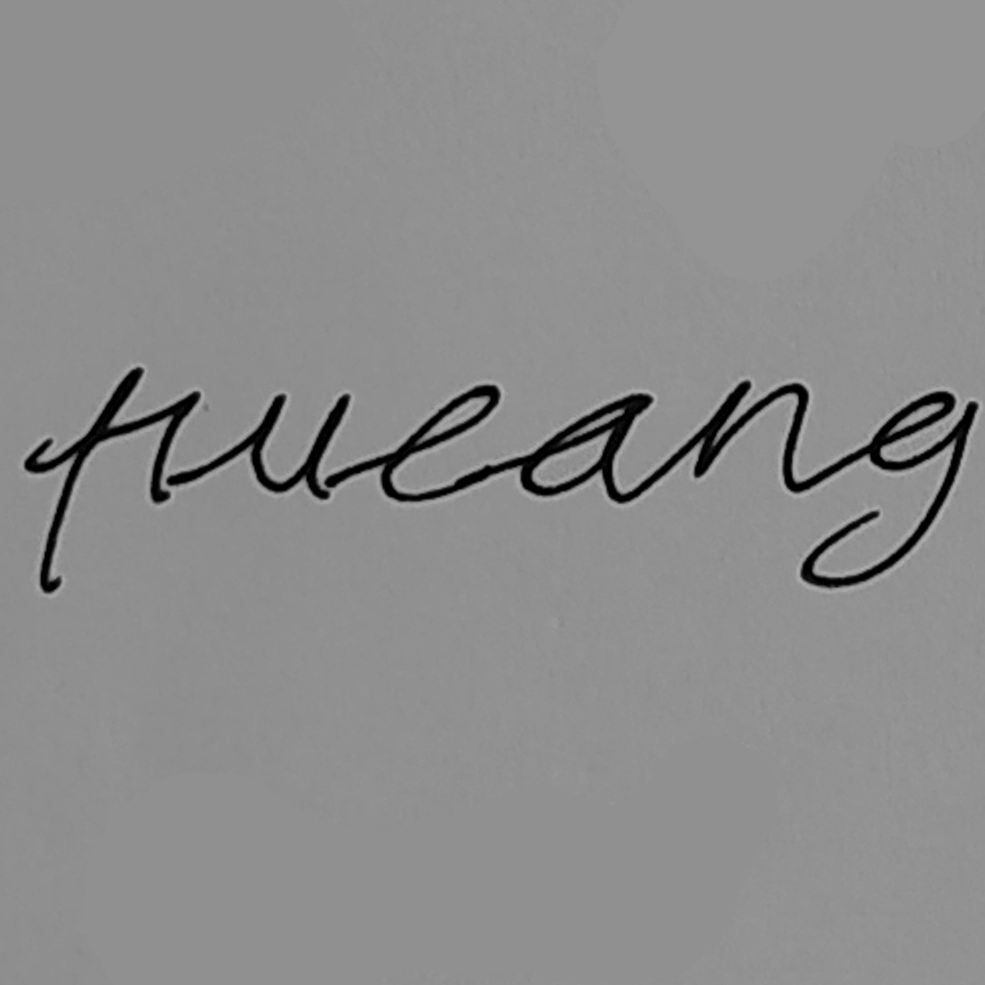a: (513, 389, 656, 507)
c: (376, 380, 503, 509)
g: (793, 387, 982, 590)
n: (686, 376, 815, 495)
p: (24, 364, 203, 601)
u: (241, 387, 353, 504)
